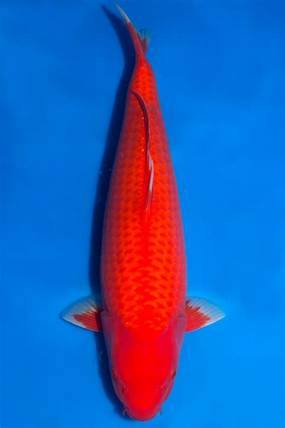red: (61, 5, 225, 422)
